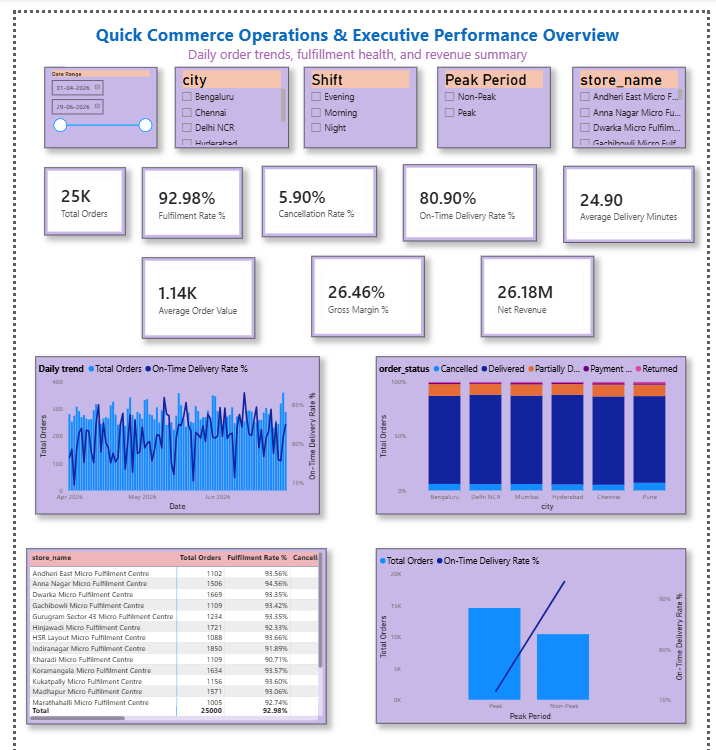

Layout of this report page (visuals, bound fields, positions):
{"tool":"powerbi","page":{"name":"Executive Overview","canvas":[1280,1400],"ordinal":0},"visuals":[{"type":"slicer","title":"Data Range","fields":{"Values":["Dim_Date.Date"]},"box":[52.7,99.2,208.6,149.9],"z":0},{"type":"textbox","box":[91.1,11.6,1081.7,87.8],"z":1000},{"type":"slicer","fields":{"Values":["stores.city"]},"box":[295.7,99.2,210.6,149.9],"z":2000},{"type":"slicer","fields":{"Values":["Dim_Shift.Shift"]},"box":[534.7,99.2,209,150],"z":3000},{"type":"slicer","fields":{"Values":["orders.Peak Period"]},"box":[781.8,99.2,209,150],"z":4000},{"type":"slicer","fields":{"Values":["stores.store_name"]},"box":[1030.9,99.2,209,150],"z":5000},{"type":"cardVisual","fields":{"Data":["_Measures.Total Orders"]},"box":[52.7,285.6,149.9,125.6],"z":6000},{"type":"cardVisual","fields":{"Data":["_Measures.Fulfilment Rate %"]},"box":[234,286,186.3,131.6],"z":7000},{"type":"cardVisual","fields":{"Data":["_Measures.Cancellation Rate %"]},"box":[456,284,212.7,131.6],"z":8000},{"type":"cardVisual","fields":{"Data":["_Measures.On-Time Delivery Rate %"]},"box":[718,280,247.1,141.8],"z":9000},{"type":"cardVisual","fields":{"Data":["_Measures.Average Delivery Minutes"]},"box":[1014,282,242,142],"z":10000},{"type":"cardVisual","fields":{"Data":["_Measures.Net Revenue"]},"box":[862,450,209,150],"z":11000},{"type":"cardVisual","fields":{"Data":["_Measures.Average Order Value"]},"box":[234,452,209,150],"z":12000},{"type":"cardVisual","fields":{"Data":["_Measures.Gross Margin %"]},"box":[548,450,209,150],"z":13000},{"type":"lineClusteredColumnComboChart","fields":{"Category":["Dim_Date.Date"],"Y":["_Measures.Total Orders"],"Y2":["_Measures.On-Time Delivery Rate %"]},"box":[35,635,526,292],"z":14000},{"type":"hundredPercentStackedColumnChart","fields":{"Category":["stores.city"],"Series":["orders.order_status"],"Y":["_Measures.Total Orders"]},"box":[667.5,635,574,292],"z":15000},{"type":"pivotTable","fields":{"Rows":["stores.city","stores.store_name"],"Values":["_Measures.Total Orders","_Measures.Fulfilment Rate %","_Measures.Cancellation Rate %","_Measures.On-Time Delivery Rate %","_Measures.Average Delivery Minutes","_Measures.Net Revenue"]},"box":[20,992.5,555,325],"z":16000},{"type":"lineClusteredColumnComboChart","fields":{"Category":["orders.Peak Period"],"Y":["_Measures.Total Orders"],"Y2":["_Measures.On-Time Delivery Rate %"]},"box":[667.5,992.5,574,324],"z":17000}]}

Visuals, with their boxes on the page's 1280x1400 design canvas (x1, y1, x2, y2). These are canvas units, not pixel positions in the 716x750 screenshot, which may show the page scaled, cropped or inside an application window:
"Data Range" slicer: <box>53,99,261,249</box>
textbox: <box>91,12,1173,99</box>
slicer - stores.city: <box>296,99,506,249</box>
slicer - Dim_Shift.Shift: <box>535,99,744,249</box>
slicer - orders.Peak Period: <box>782,99,991,249</box>
slicer - stores.store_name: <box>1031,99,1240,249</box>
cardVisual - _Measures.Total Orders: <box>53,286,203,411</box>
cardVisual - _Measures.Fulfilment Rate %: <box>234,286,420,418</box>
cardVisual - _Measures.Cancellation Rate %: <box>456,284,669,416</box>
cardVisual - _Measures.On-Time Delivery Rate %: <box>718,280,965,422</box>
cardVisual - _Measures.Average Delivery Minutes: <box>1014,282,1256,424</box>
cardVisual - _Measures.Net Revenue: <box>862,450,1071,600</box>
cardVisual - _Measures.Average Order Value: <box>234,452,443,602</box>
cardVisual - _Measures.Gross Margin %: <box>548,450,757,600</box>
lineClusteredColumnComboChart - Dim_Date.Date x _Measures.Total Orders: <box>35,635,561,927</box>
hundredPercentStackedColumnChart - stores.city x orders.order_status: <box>668,635,1242,927</box>
pivotTable - stores.city x stores.store_name: <box>20,992,575,1318</box>
lineClusteredColumnComboChart - orders.Peak Period x _Measures.Total Orders: <box>668,992,1242,1316</box>
